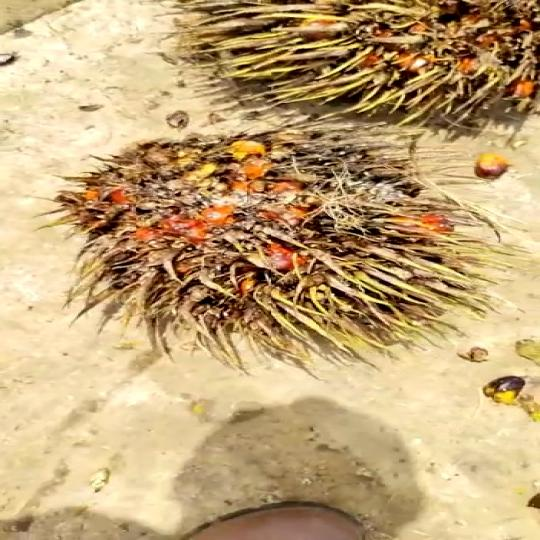terlalu masak: (41, 120, 480, 362), (142, 0, 540, 134)
